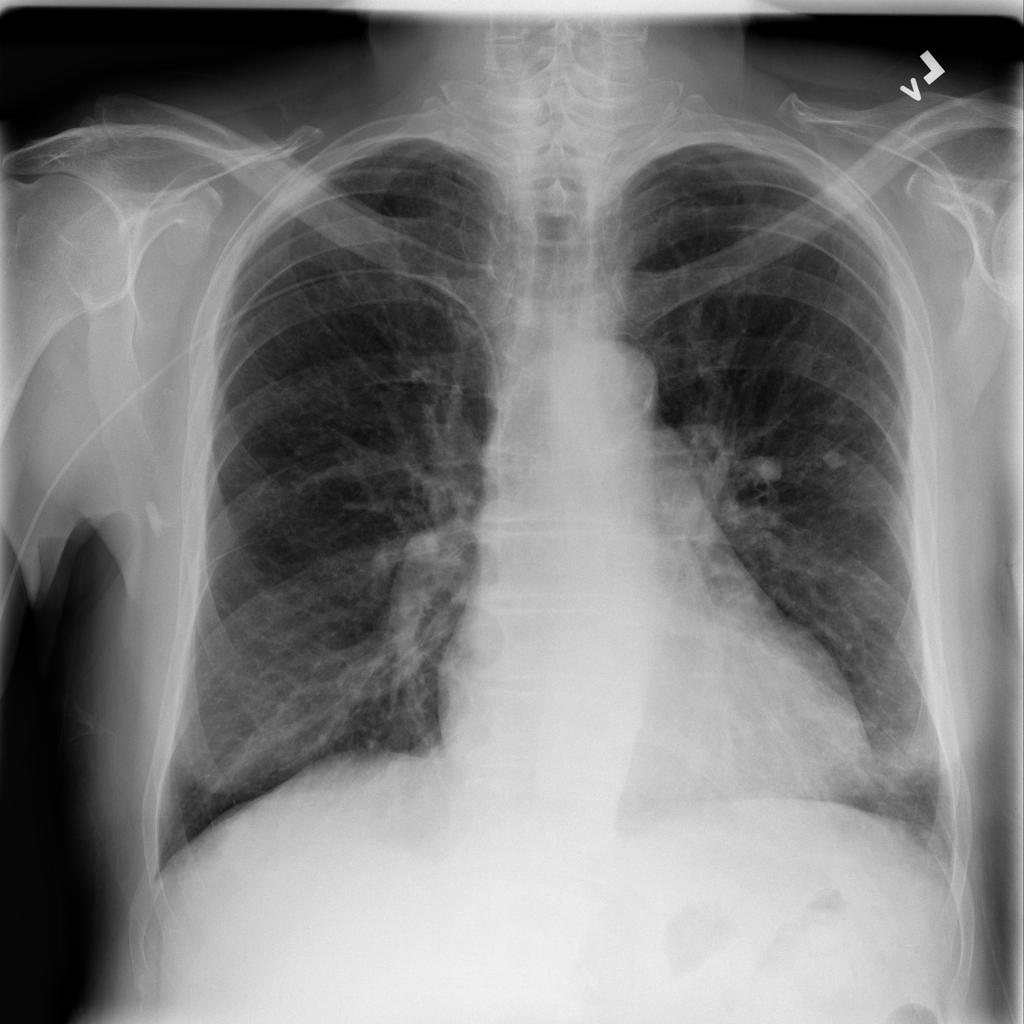nodule: (811, 434, 862, 484)
